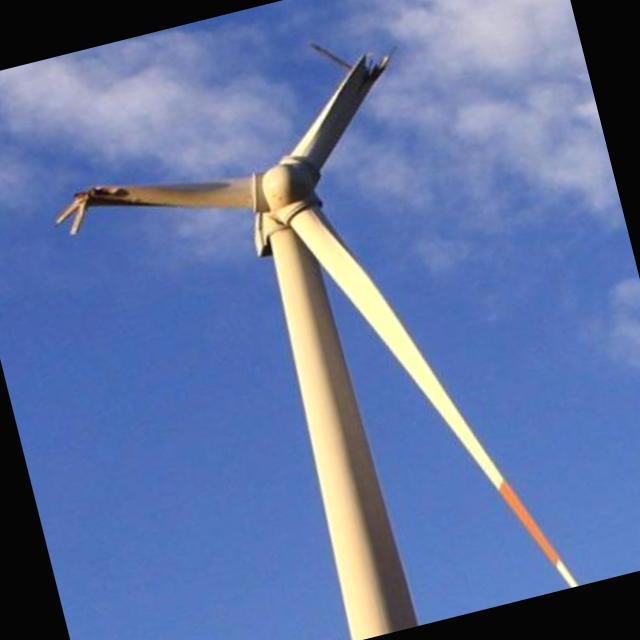crack: (301, 14, 414, 122), (40, 167, 149, 250)
